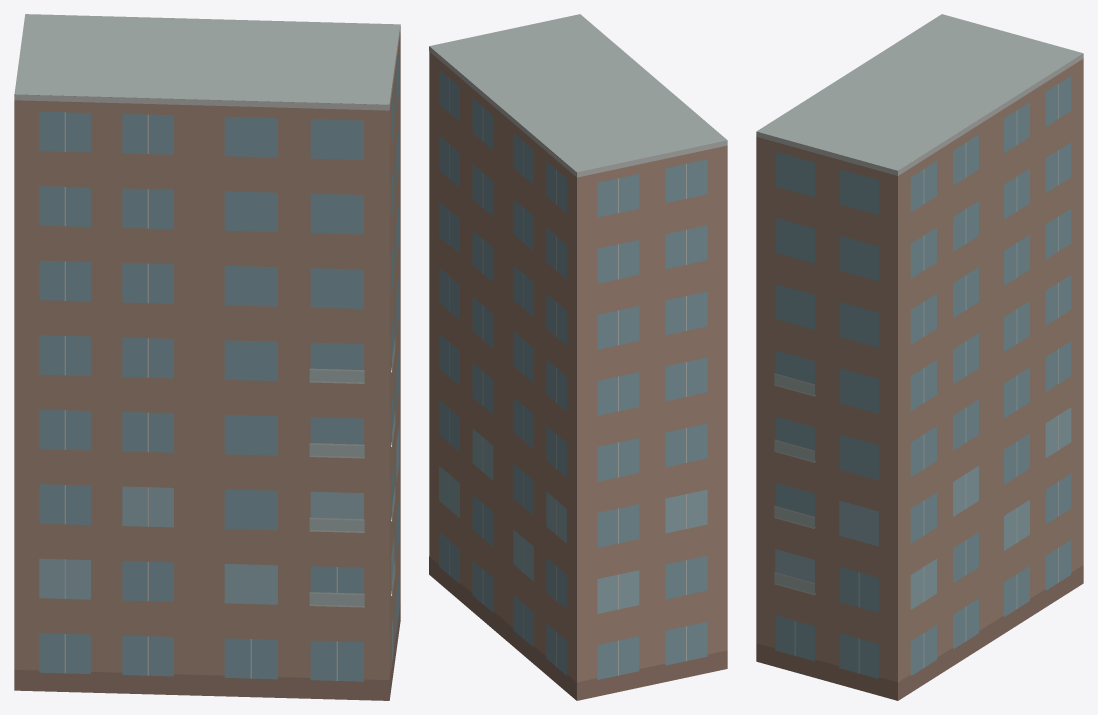
File: survey-upis-32883225.glb
The picture shows the model from 3 angles, left to right: view 1: azimuth 30°, elevation 25°; view 2: azimuth 150°, elevation 25°; view 3: azimuth 270°, elevation 25°; orthographic projection. The views are drawn at different scales.
Parts seen in each view (by area): view 1: survey-upis-32883225.tmp; view 2: survey-upis-32883225.tmp; view 3: survey-upis-32883225.tmp.
Part boxes in pixels (x1,y1,x2,y2): survey-upis-32883225.tmp: (14, 14, 400, 700); survey-upis-32883225.tmp: (429, 14, 727, 700); survey-upis-32883225.tmp: (756, 14, 1083, 700).
Bounding box in the file's own units: 15.81 × 24.9 × 13.94.
